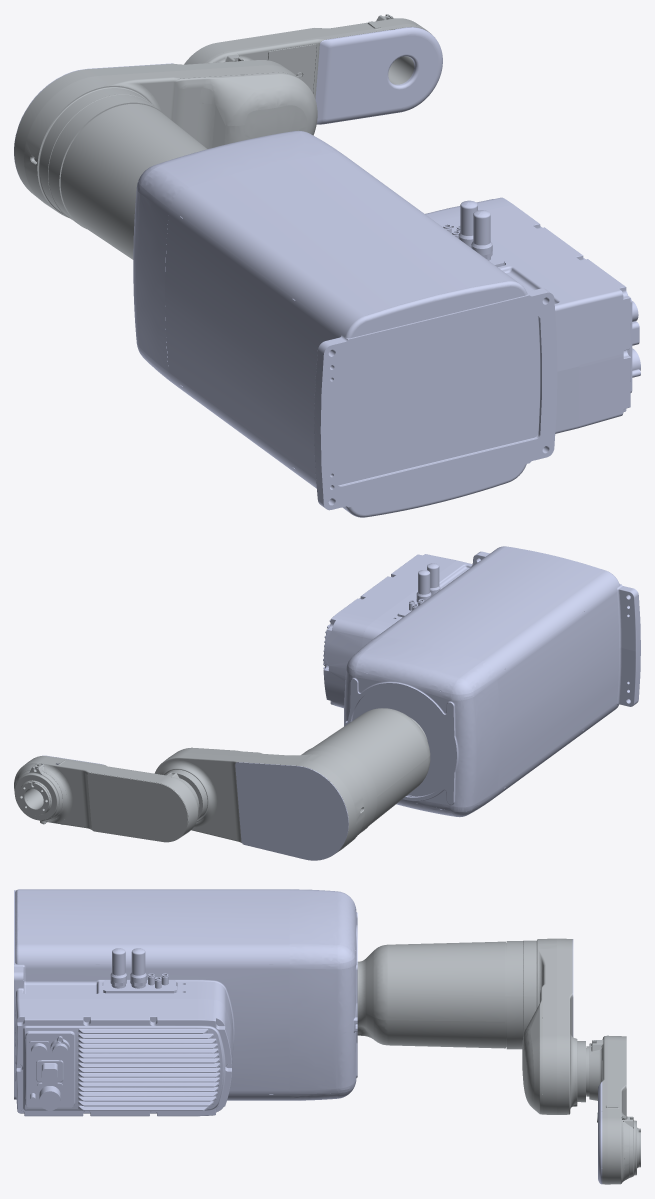
File: nachi-ez03v4.glb
3 renders of one model, top to bottom at view 1: azimuth 30°, elevation 25°; view 2: azimuth 150°, elevation 25°; view 3: azimuth 270°, elevation 25°, orthographic. The views are drawn at different scales.
Parts seen in each view (by area): view 1: EZ03V-4525_base006_mesh, EZ03V-4525_J003_mesh, EZ03V-4525_J436_mesh; view 2: EZ03V-4525_base006_mesh, EZ03V-4525_J003_mesh, EZ03V-4525_J436_mesh; view 3: EZ03V-4525_base006_mesh, EZ03V-4525_J003_mesh, EZ03V-4525_J436_mesh.
Part boxes in pixels (x1=…): EZ03V-4525_base006_mesh: x1=133, y1=130, x2=640, y2=517; EZ03V-4525_J003_mesh: x1=14, y1=60, x2=317, y2=259; EZ03V-4525_J436_mesh: x1=184, y1=14, x2=442, y2=124; EZ03V-4525_base006_mesh: x1=323, y1=546, x2=640, y2=817; EZ03V-4525_J003_mesh: x1=154, y1=708, x2=430, y2=860; EZ03V-4525_J436_mesh: x1=14, y1=755, x2=199, y2=842; EZ03V-4525_base006_mesh: x1=14, y1=889, x2=357, y2=1116; EZ03V-4525_J003_mesh: x1=357, y1=938, x2=589, y2=1114; EZ03V-4525_J436_mesh: x1=589, y1=1035, x2=640, y2=1184.
Bounding box in the file's own units: 658 × 271 × 921.
